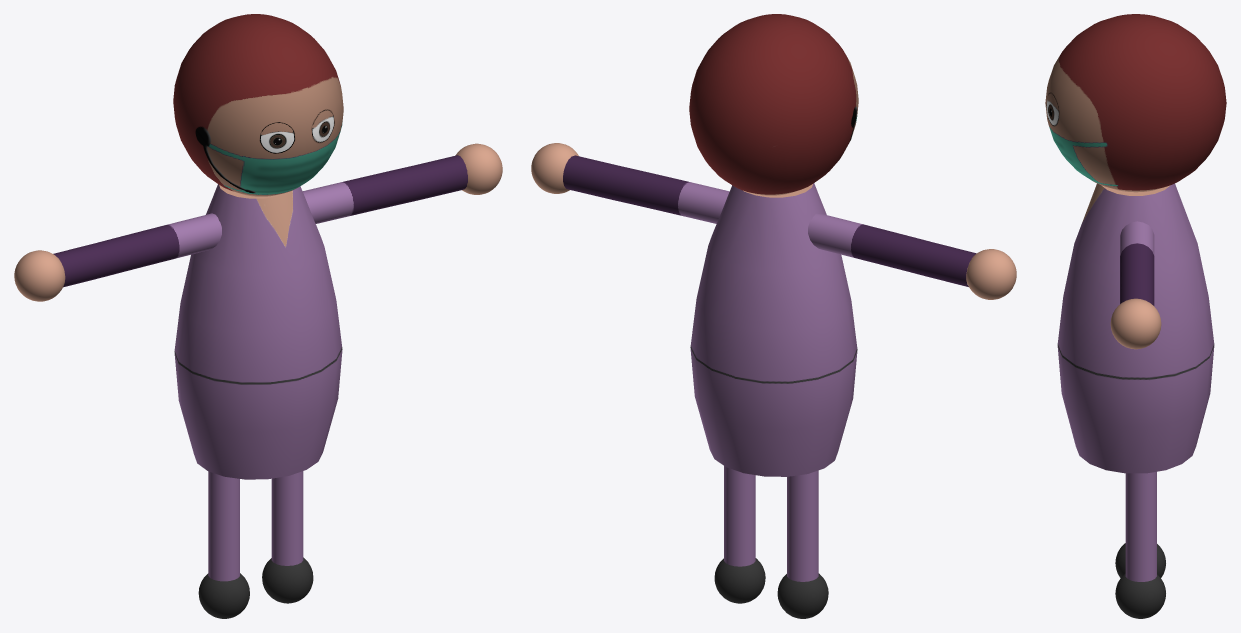
File: Personaje.FBX
3 renders of one model, left to right at view 1: azimuth 30°, elevation 25°; view 2: azimuth 150°, elevation 25°; view 3: azimuth 270°, elevation 25°, orthographic.
Parts seen in each view (by area): view 1: Cylinder001; view 2: Cylinder001; view 3: Cylinder001.
Boxes of the visible parts, left/top/right/bottom form: Cylinder001: left=14, top=14, right=502, bottom=618; Cylinder001: left=531, top=14, right=1016, bottom=618; Cylinder001: left=1045, top=14, right=1226, bottom=618.
Size of the model in its own units: 85 by 28.1 by 99.29.
1 material, 1 textured.
